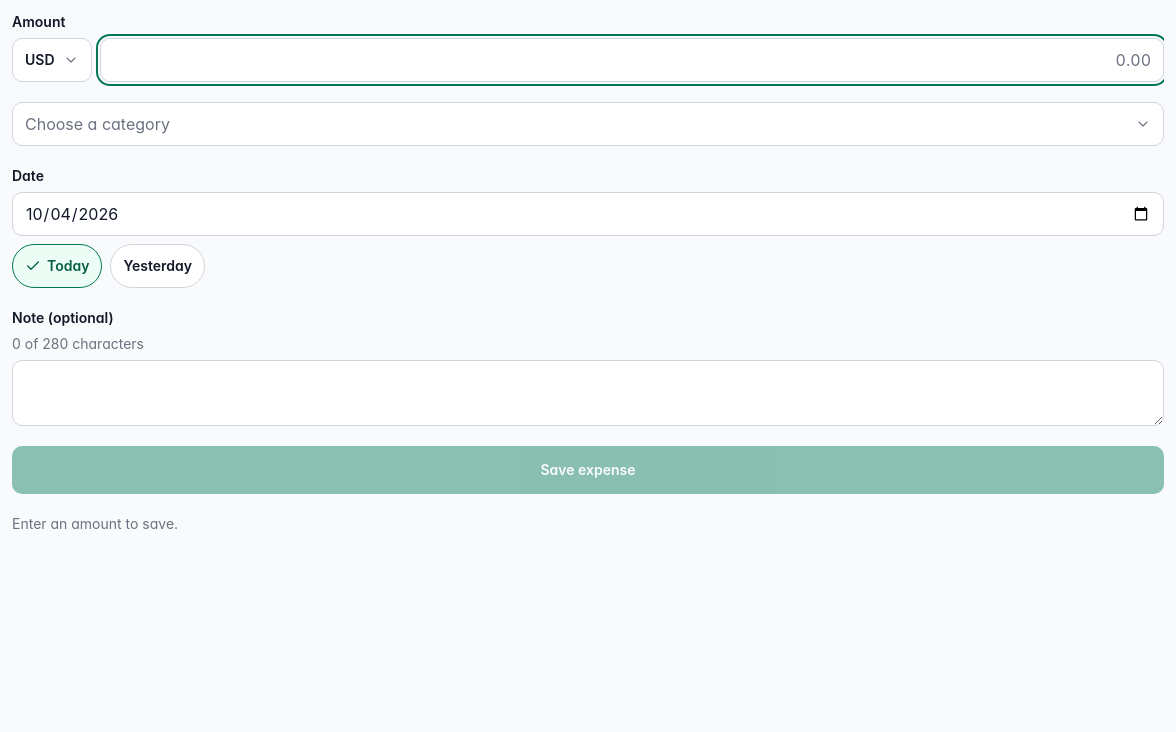
Test: TransactionForm (FR-06, FR-07, FR-24) › keeps Save disabled until an amount and a category are chosen, and says why
Expected: the button "Save expense" is disabled, [12,446,1164,494]
Expected: the text "Enter an amount to save." is shown, [12,515,178,532]
Type "12.50" into the field labelled "Amount". click: x=632, y=60
box: [100,38,1164,82]
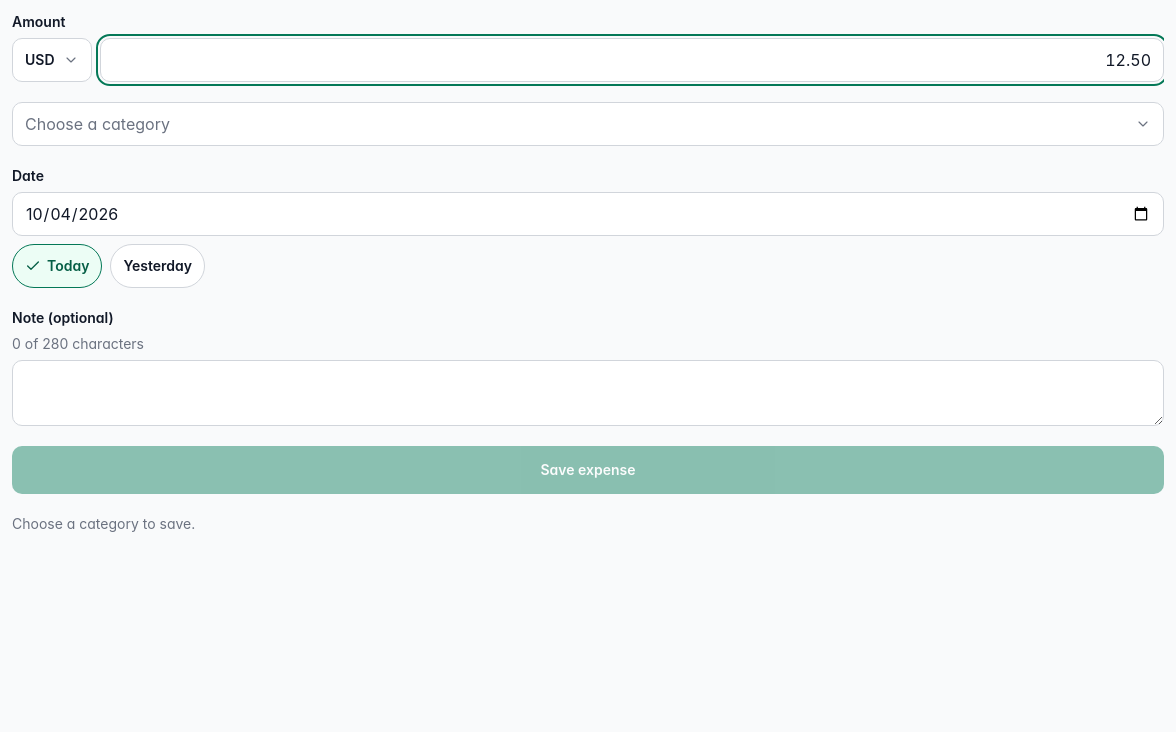
Expected: the button "Save expense" is disabled, [12,446,1164,494]
Expected: the text "Choose a category to save." is shown, [12,515,195,532]
